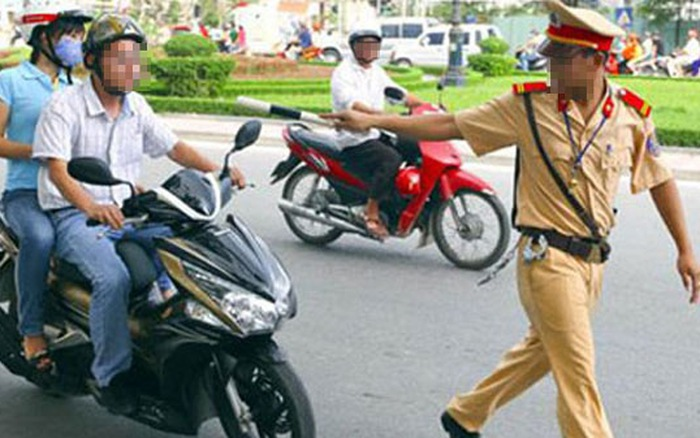police: (247, 7, 691, 436)
